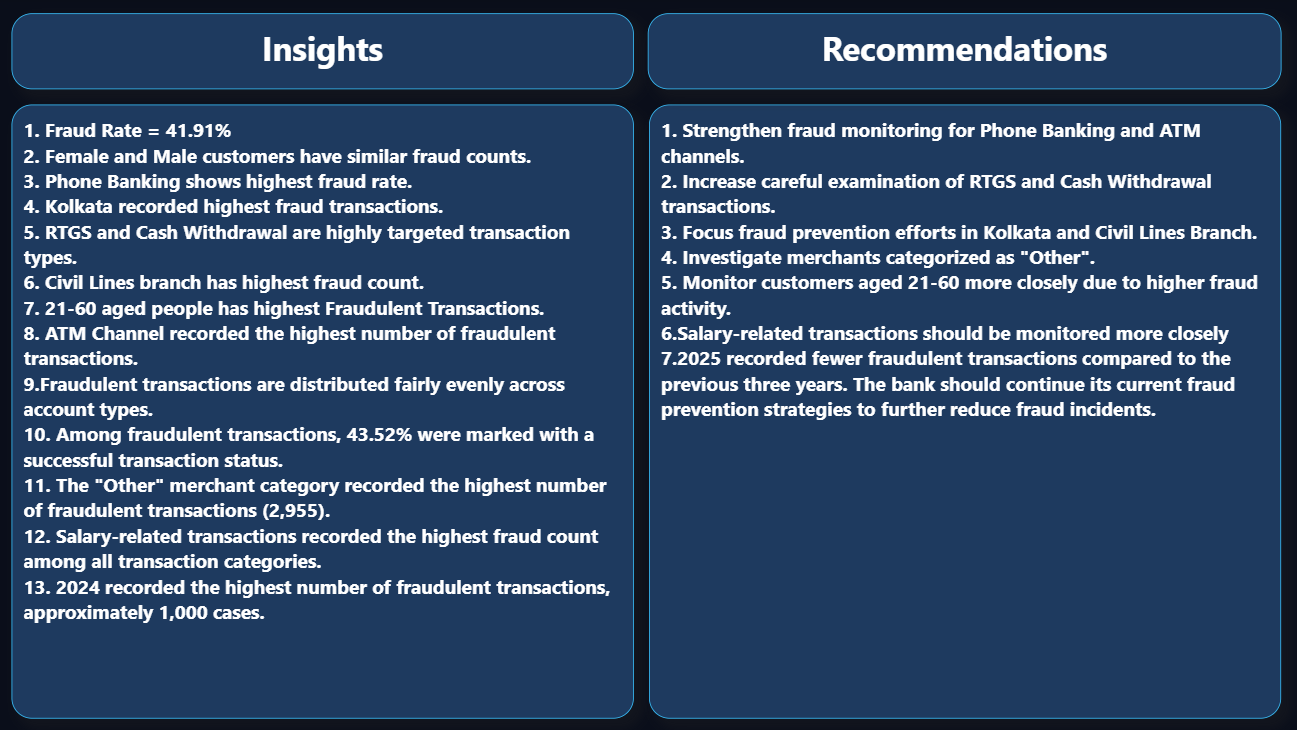

What the dashboard file says about the page in this screenshot:
{"tool":"powerbi","page":{"name":"Insights & Recommendations","canvas":[1280,720],"ordinal":2},"visuals":[{"type":"textbox","box":[17.1,15.9,609,74.6],"z":0},{"type":"textbox","box":[17.1,105.2,609,600.4],"z":1000},{"type":"textbox","box":[640.8,105.2,618.8,600.4],"z":2000},{"type":"textbox","box":[639.5,15.9,620,74.6],"z":3000}]}

Visuals, with their boxes in screenshot pixels (x1, y1, x2, y2), scaled from the page's 1280x720 canvas onto the 1297x730 screenshot:
textbox: pyautogui.locateOnScreen(17, 16, 634, 92)
textbox: pyautogui.locateOnScreen(17, 107, 634, 715)
textbox: pyautogui.locateOnScreen(649, 107, 1276, 715)
textbox: pyautogui.locateOnScreen(648, 16, 1276, 92)
